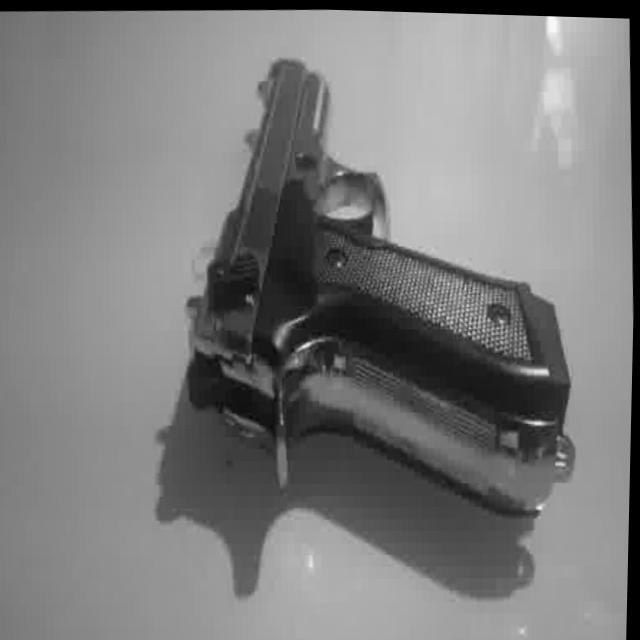weapon: (173, 42, 586, 524)
